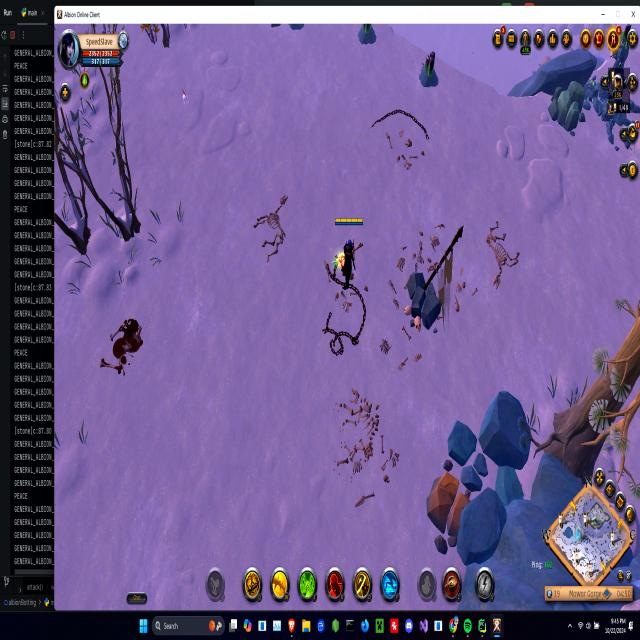player: (416, 45, 440, 94), (355, 24, 381, 44)
red: (328, 212, 368, 309)
tree: (426, 468, 470, 555), (547, 83, 586, 134)
